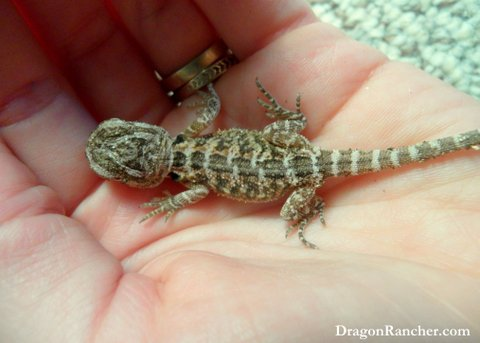bearded: (86, 80, 480, 250)
